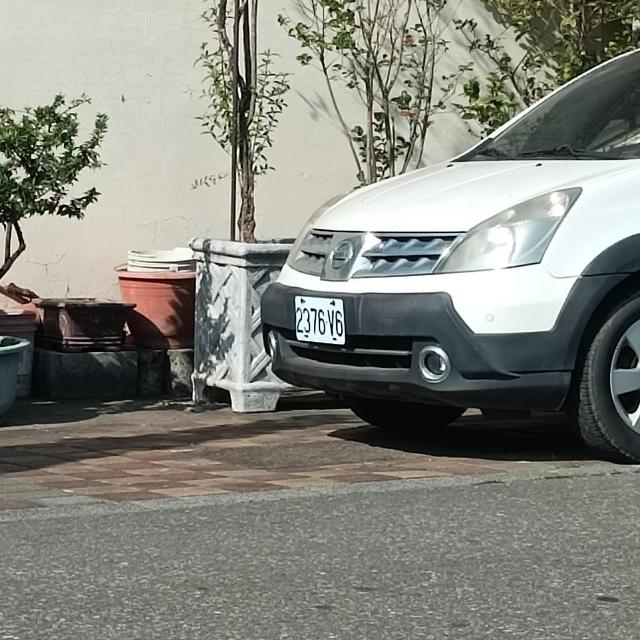W: (296, 296, 344, 344)
